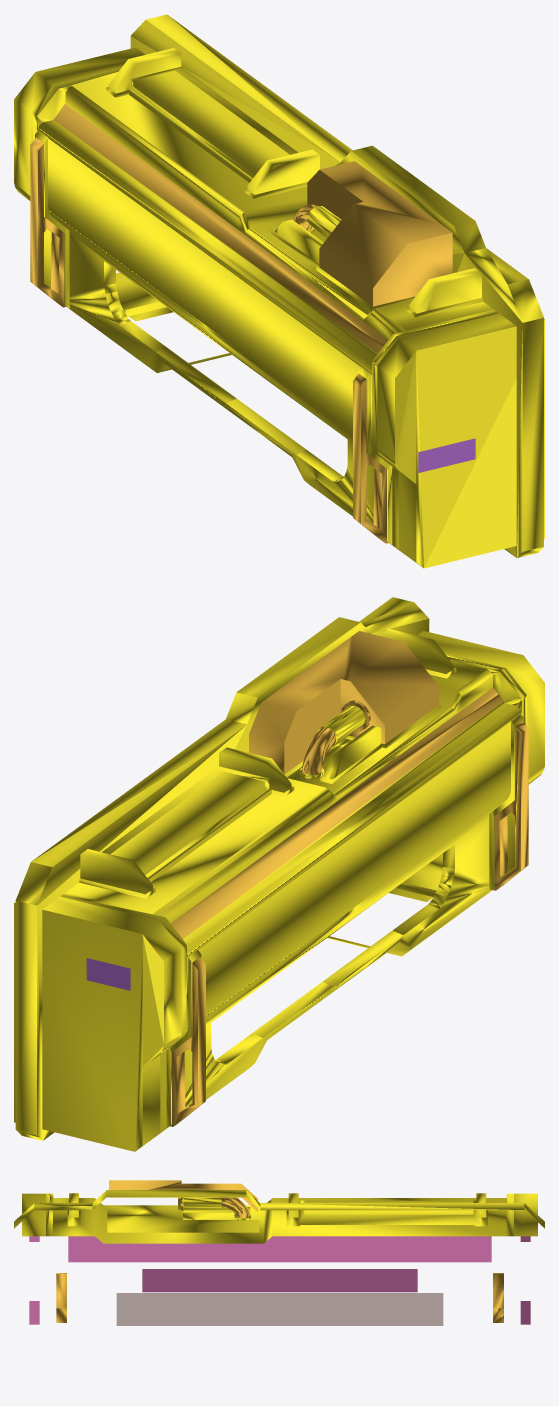
The model's file is roomlg_b_addon_generator_01x305x105_lod1.glb.
3 renders of one model, top to bottom at view 1: azimuth 30°, elevation 25°; view 2: azimuth 150°, elevation 25°; view 3: azimuth 270°, elevation 25°, orthographic. The views are drawn at different scales.
Bounding box in the file's own units: 0.8434 × 1.45 × 3.6.
